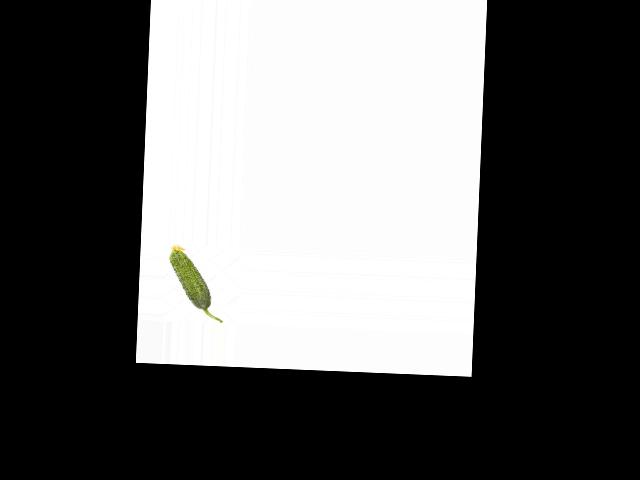cucumber: (166, 244, 225, 322)
